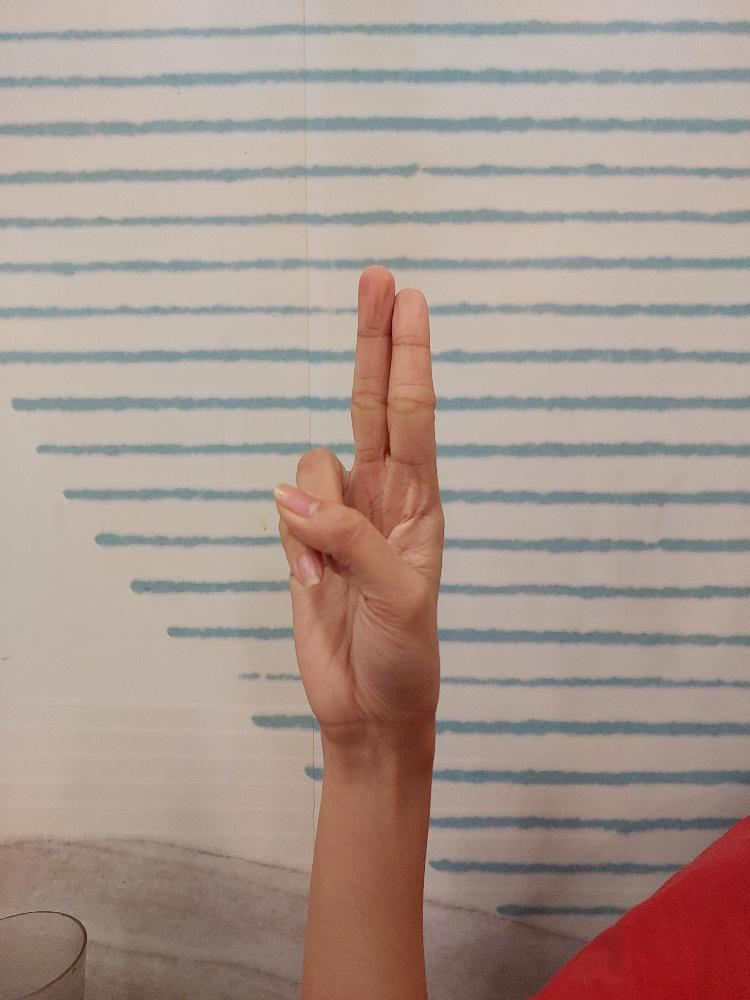u: (269, 260, 448, 748)
